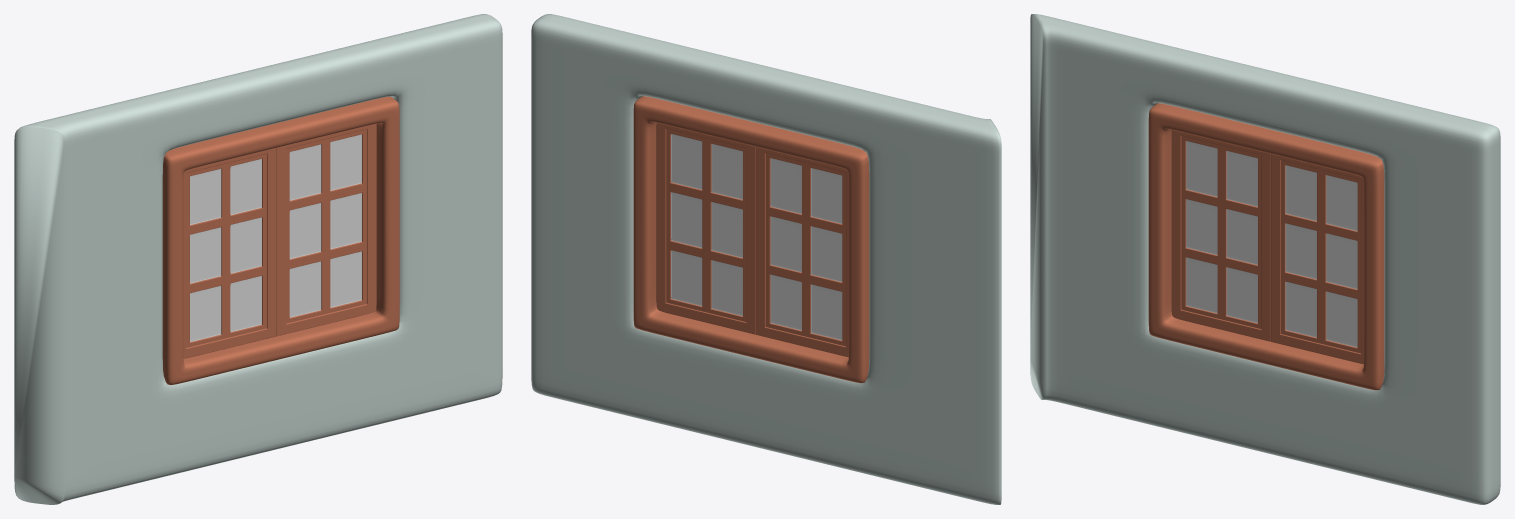
The model's file is WindowWall.fbx.
The picture shows the model from 3 angles, left to right: view 1: azimuth 30°, elevation 25°; view 2: azimuth 150°, elevation 25°; view 3: azimuth 330°, elevation 25°; orthographic projection.
Parts seen in each view (by area): view 1: Wall, Window, WindowFrame; view 2: Wall, Window, WindowFrame; view 3: Wall, Window, WindowFrame.
Part boxes in pixels (box(x1,y1,x2,y2)): Wall: box(14, 14, 502, 504); Window: box(183, 123, 376, 358); WindowFrame: box(162, 96, 399, 384); Wall: box(531, 14, 1001, 504); Window: box(656, 123, 848, 356); WindowFrame: box(633, 96, 869, 383); Wall: box(1030, 14, 1500, 504); Window: box(1171, 130, 1363, 364); WindowFrame: box(1148, 103, 1384, 390).
Size of the model in its own units: 2177 by 1644 by 176.
